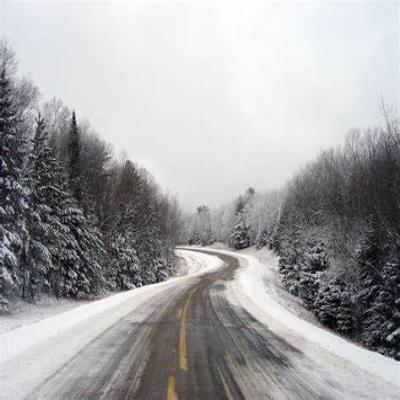iced-road: (28, 256, 341, 400)
